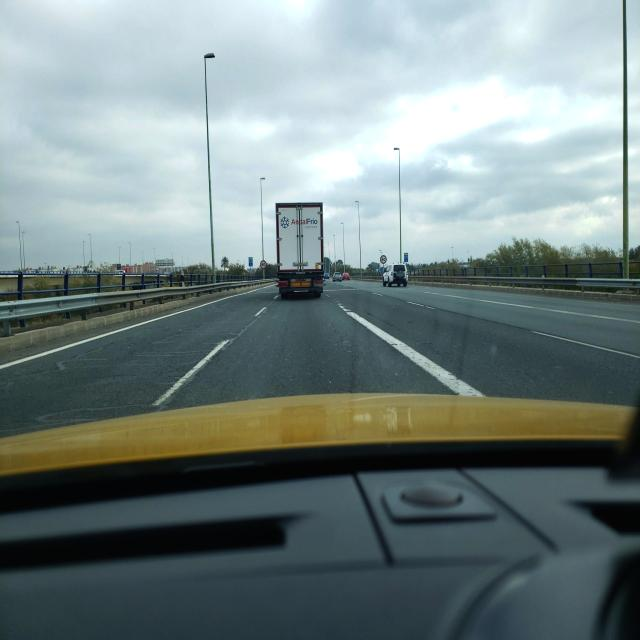car: (382, 263, 408, 288), (332, 272, 342, 281)
